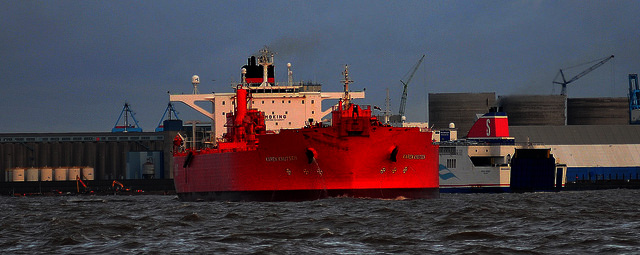tanker: (171, 49, 441, 203)
